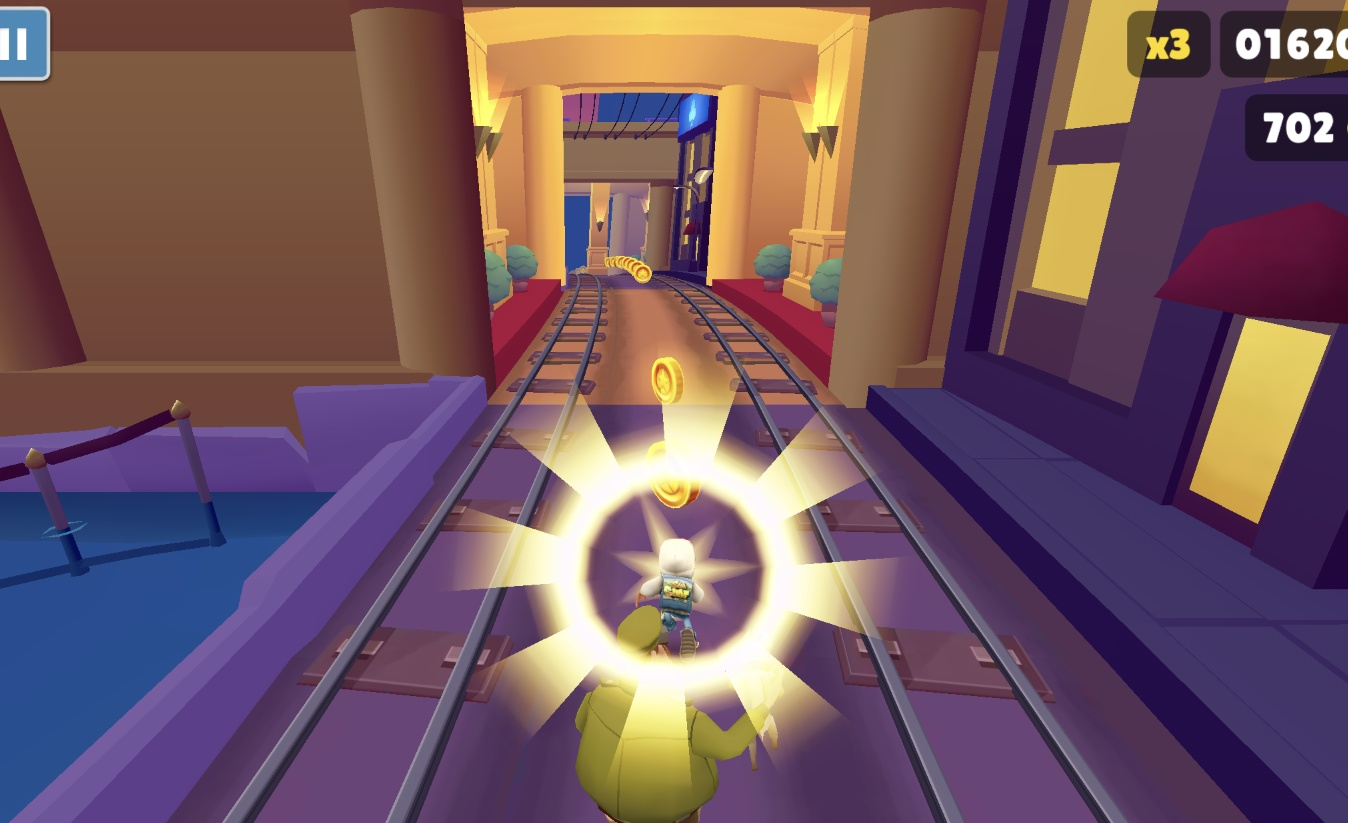pillar: (596, 160, 623, 277)
